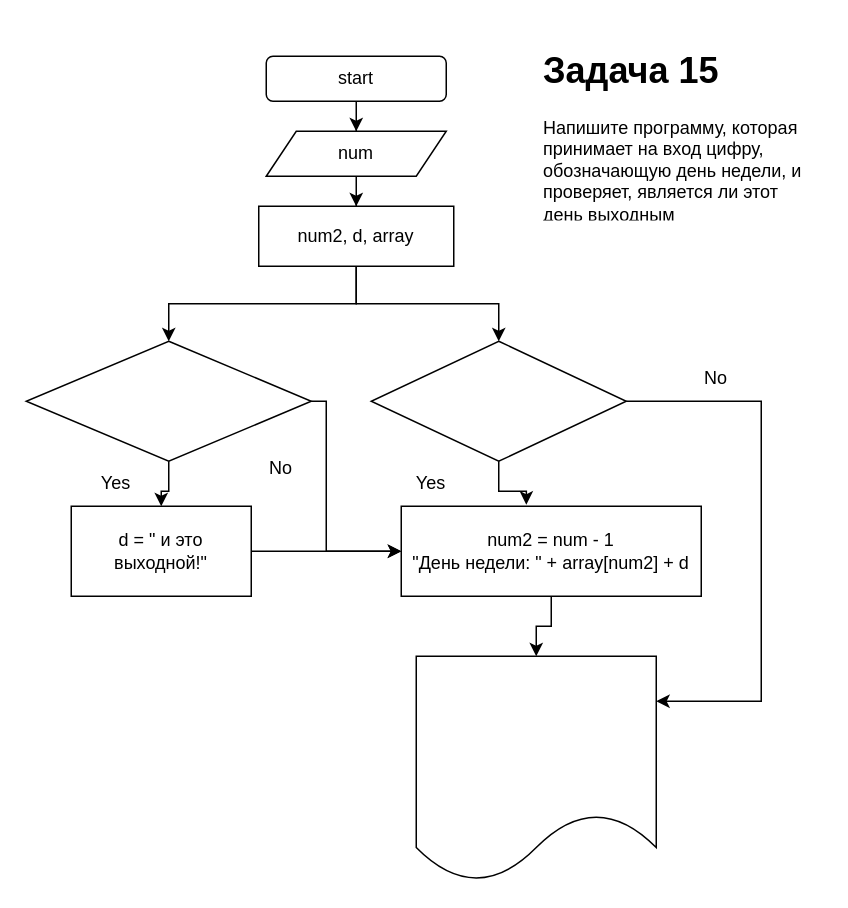
Some shapes in this 848 by 908 pixel diagram are drawn without their labels. The centre of each missing label's shape, as x and y in pixels:
num > 0 && num < 8: (x=498, y=400)
num > 5 && num < 8: (x=168, y=400)
День недели: " + array[num2] + d или Ошибка ввода номера дня недели: (x=535, y=768)
